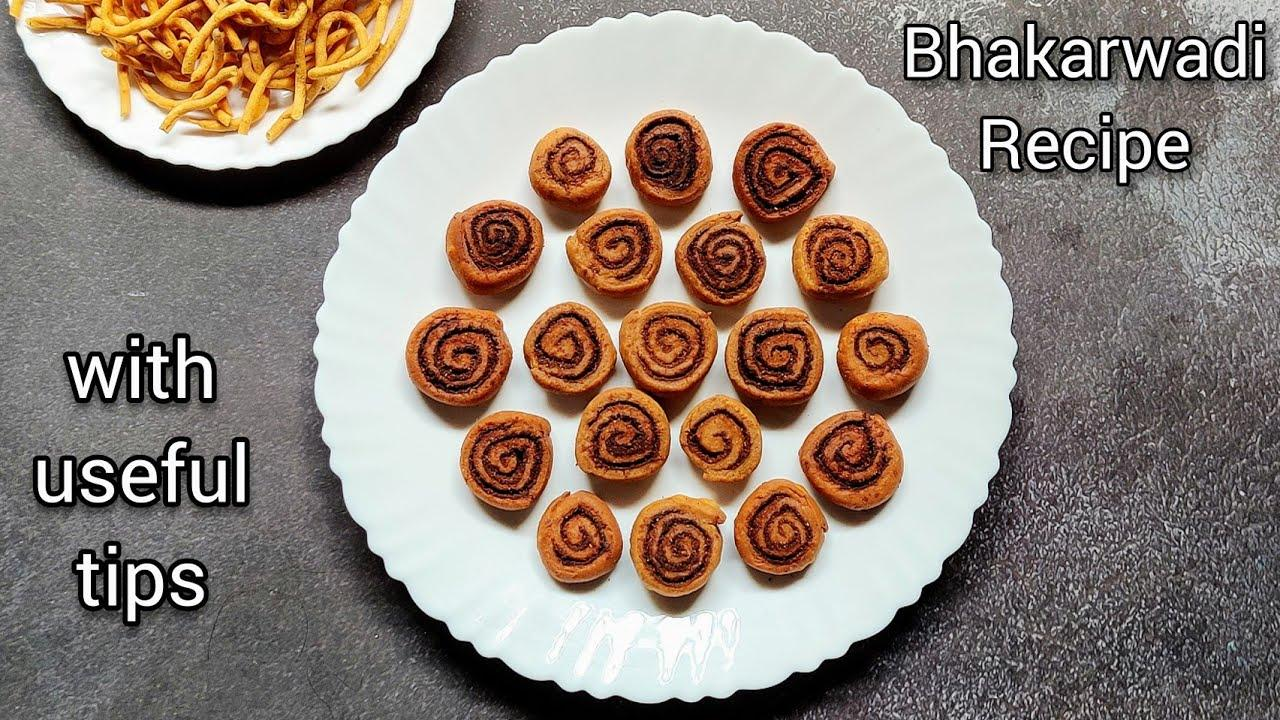bhakarwadi: (400, 112, 925, 608)
